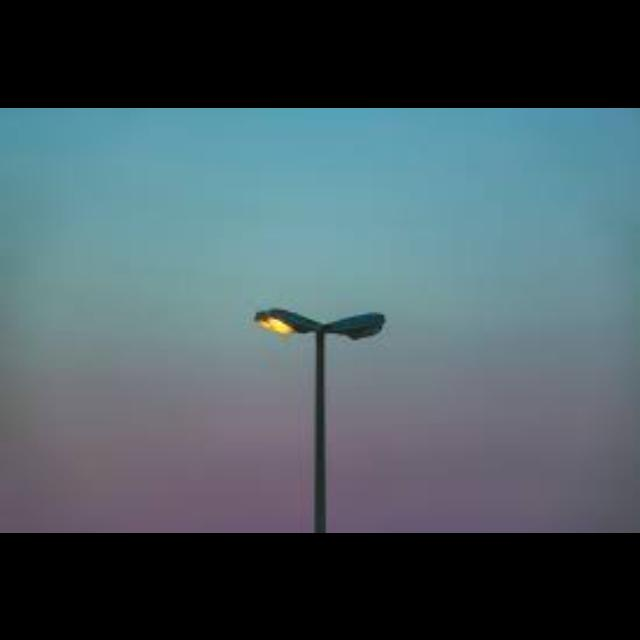Street-Lamp: (255, 284, 393, 532)
